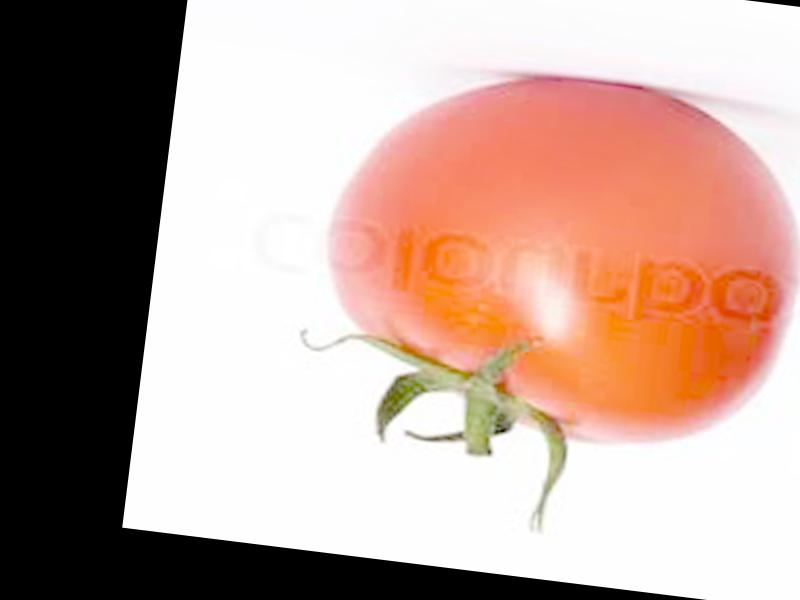Tomato: (312, 56, 800, 466)
